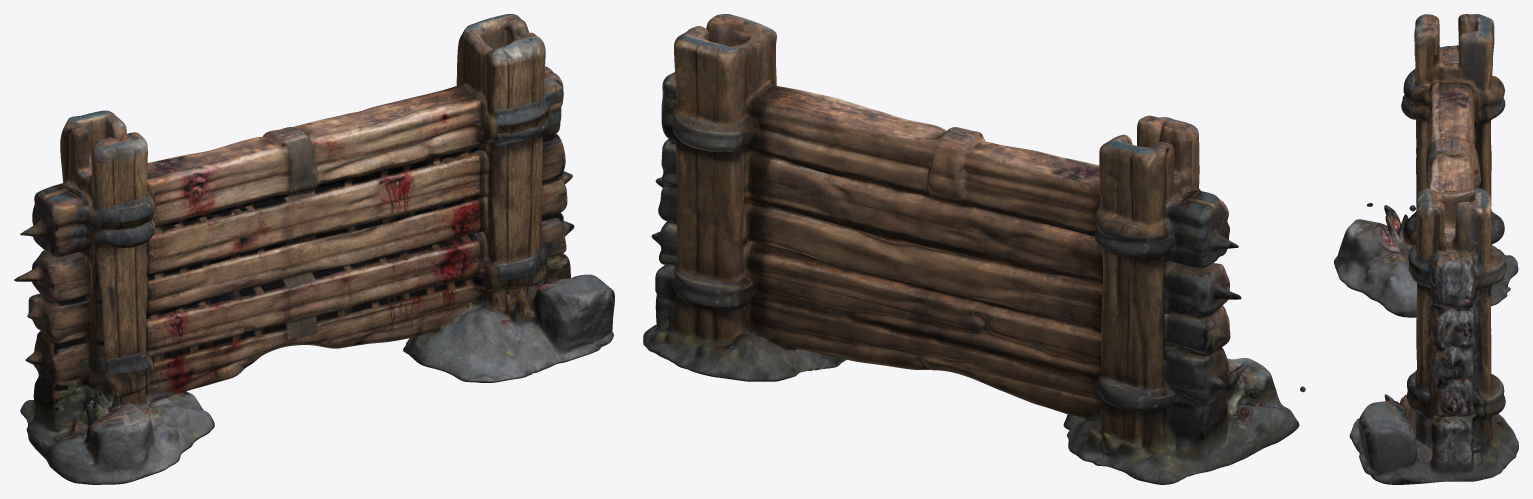
File: wooden_barricade_defe_0425091719.fbx
3 views of the same model, side by side, from view 1: azimuth 30°, elevation 25°; view 2: azimuth 150°, elevation 25°; view 3: azimuth 270°, elevation 25° (orthographic). The views are drawn at different scales.
Parts seen in each view (by area): view 1: Mesh_0; view 2: Mesh_0; view 3: Mesh_0.
Part boxes in pixels (<box>): Mesh_0: <box>14,14,614,484</box>; Mesh_0: <box>643,14,1305,484</box>; Mesh_0: <box>1334,14,1518,484</box>.
Bounding box in the file's own units: 203 × 101 × 64.85.
Materials: 1 (1 with a texture image).
